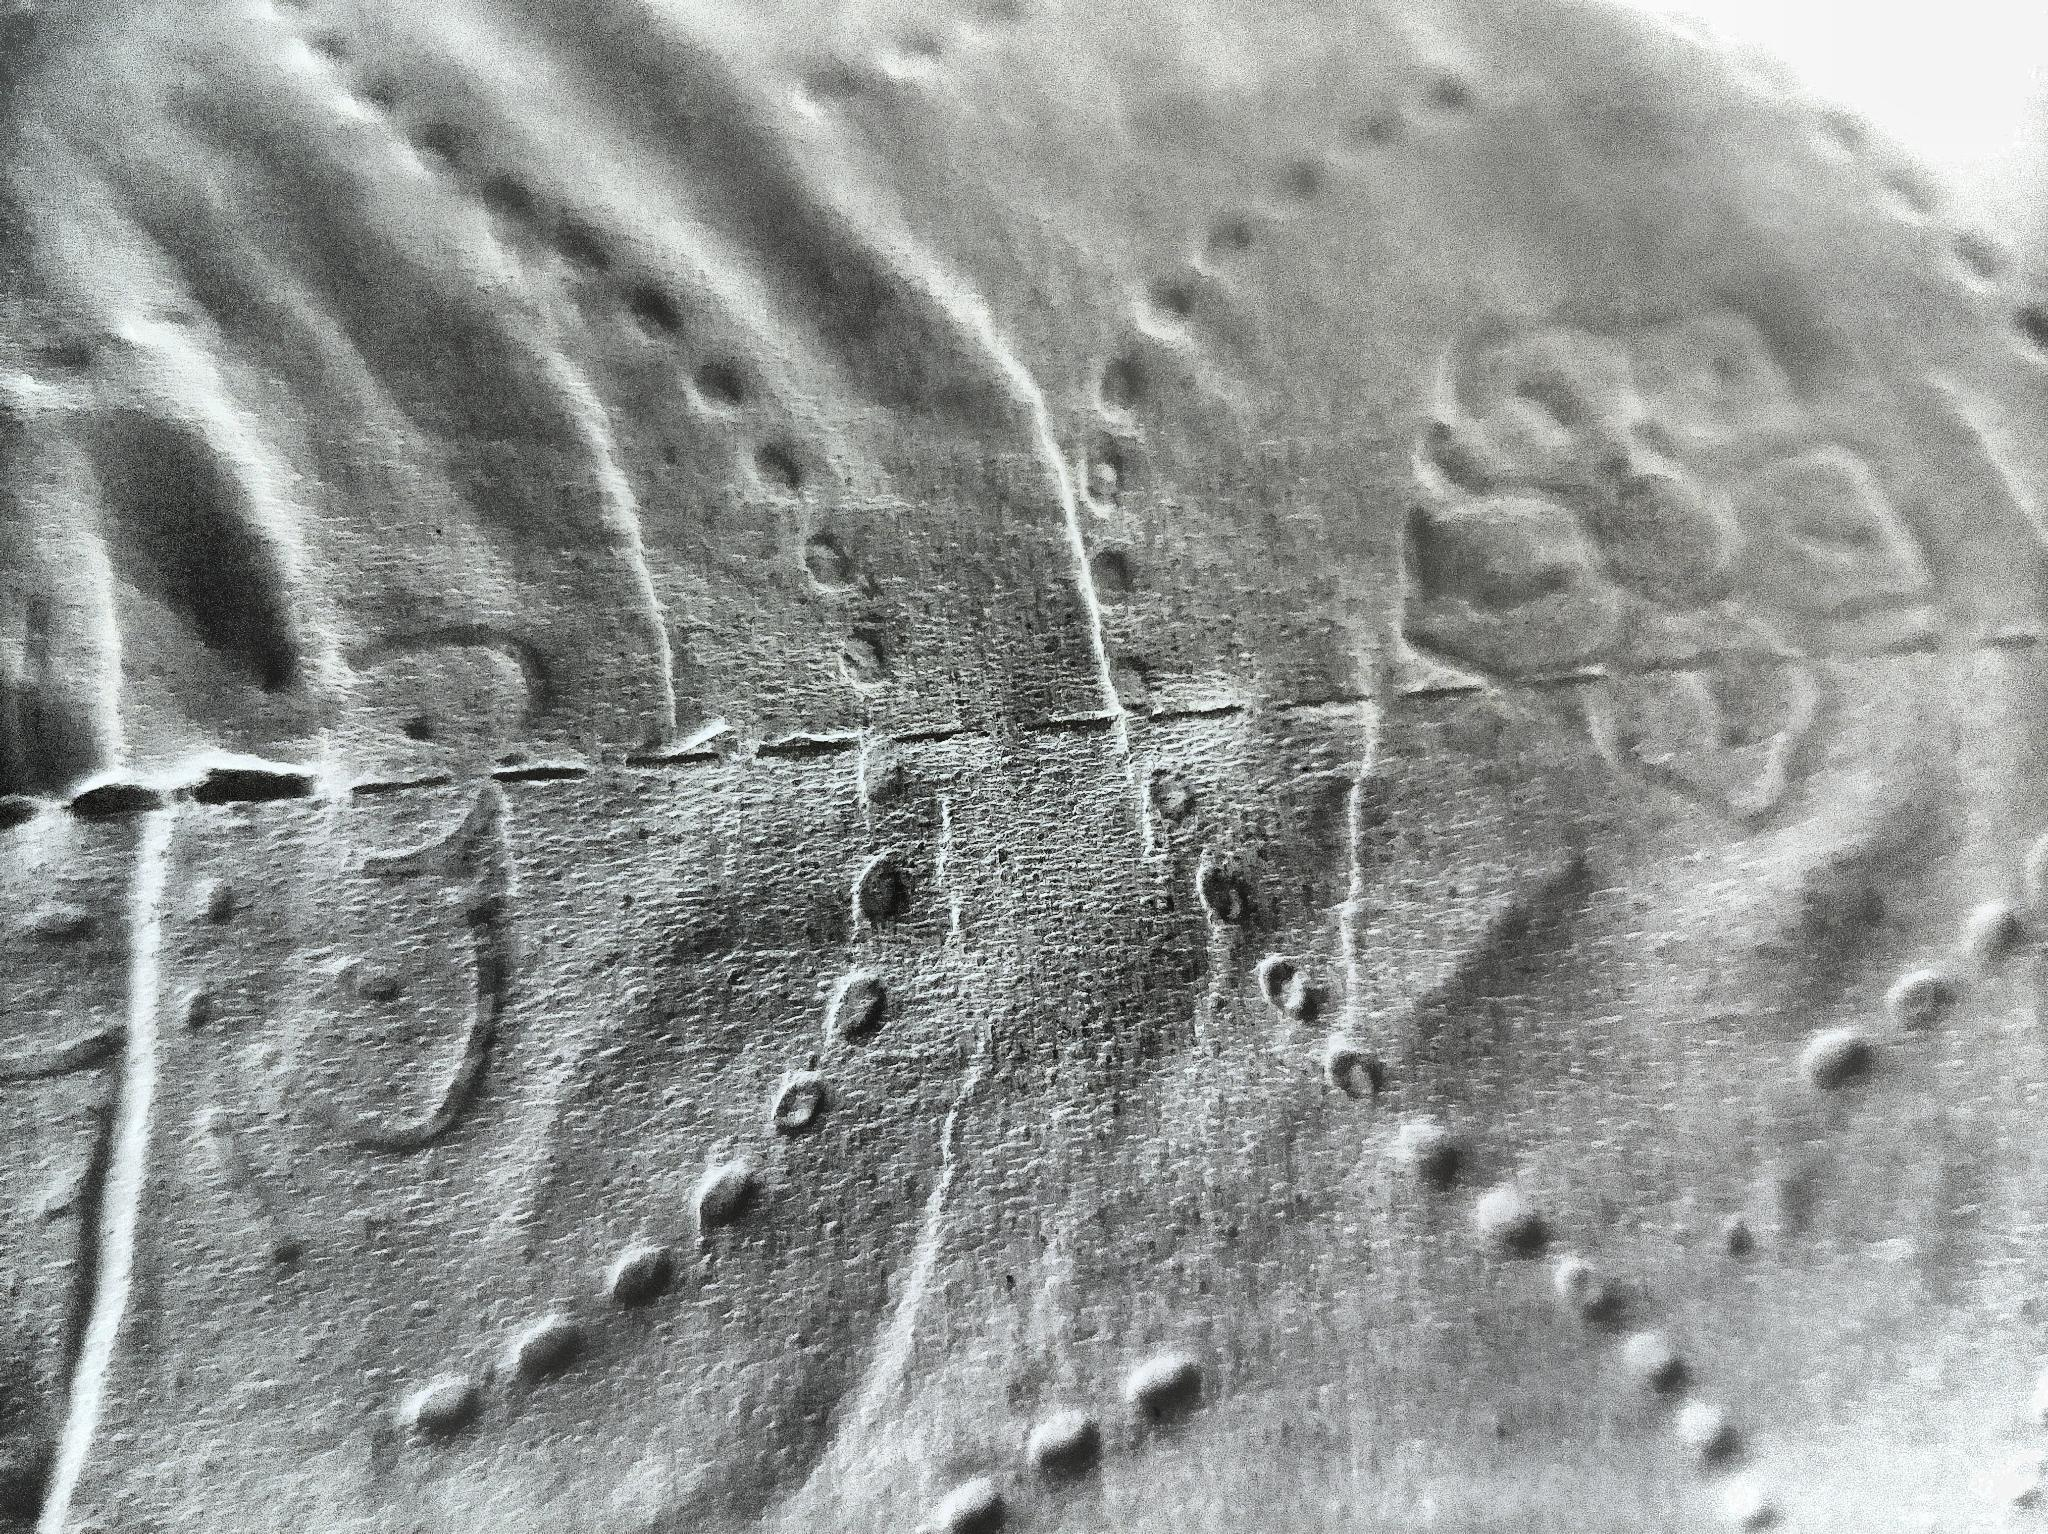seam: (10, 656, 1644, 848)
